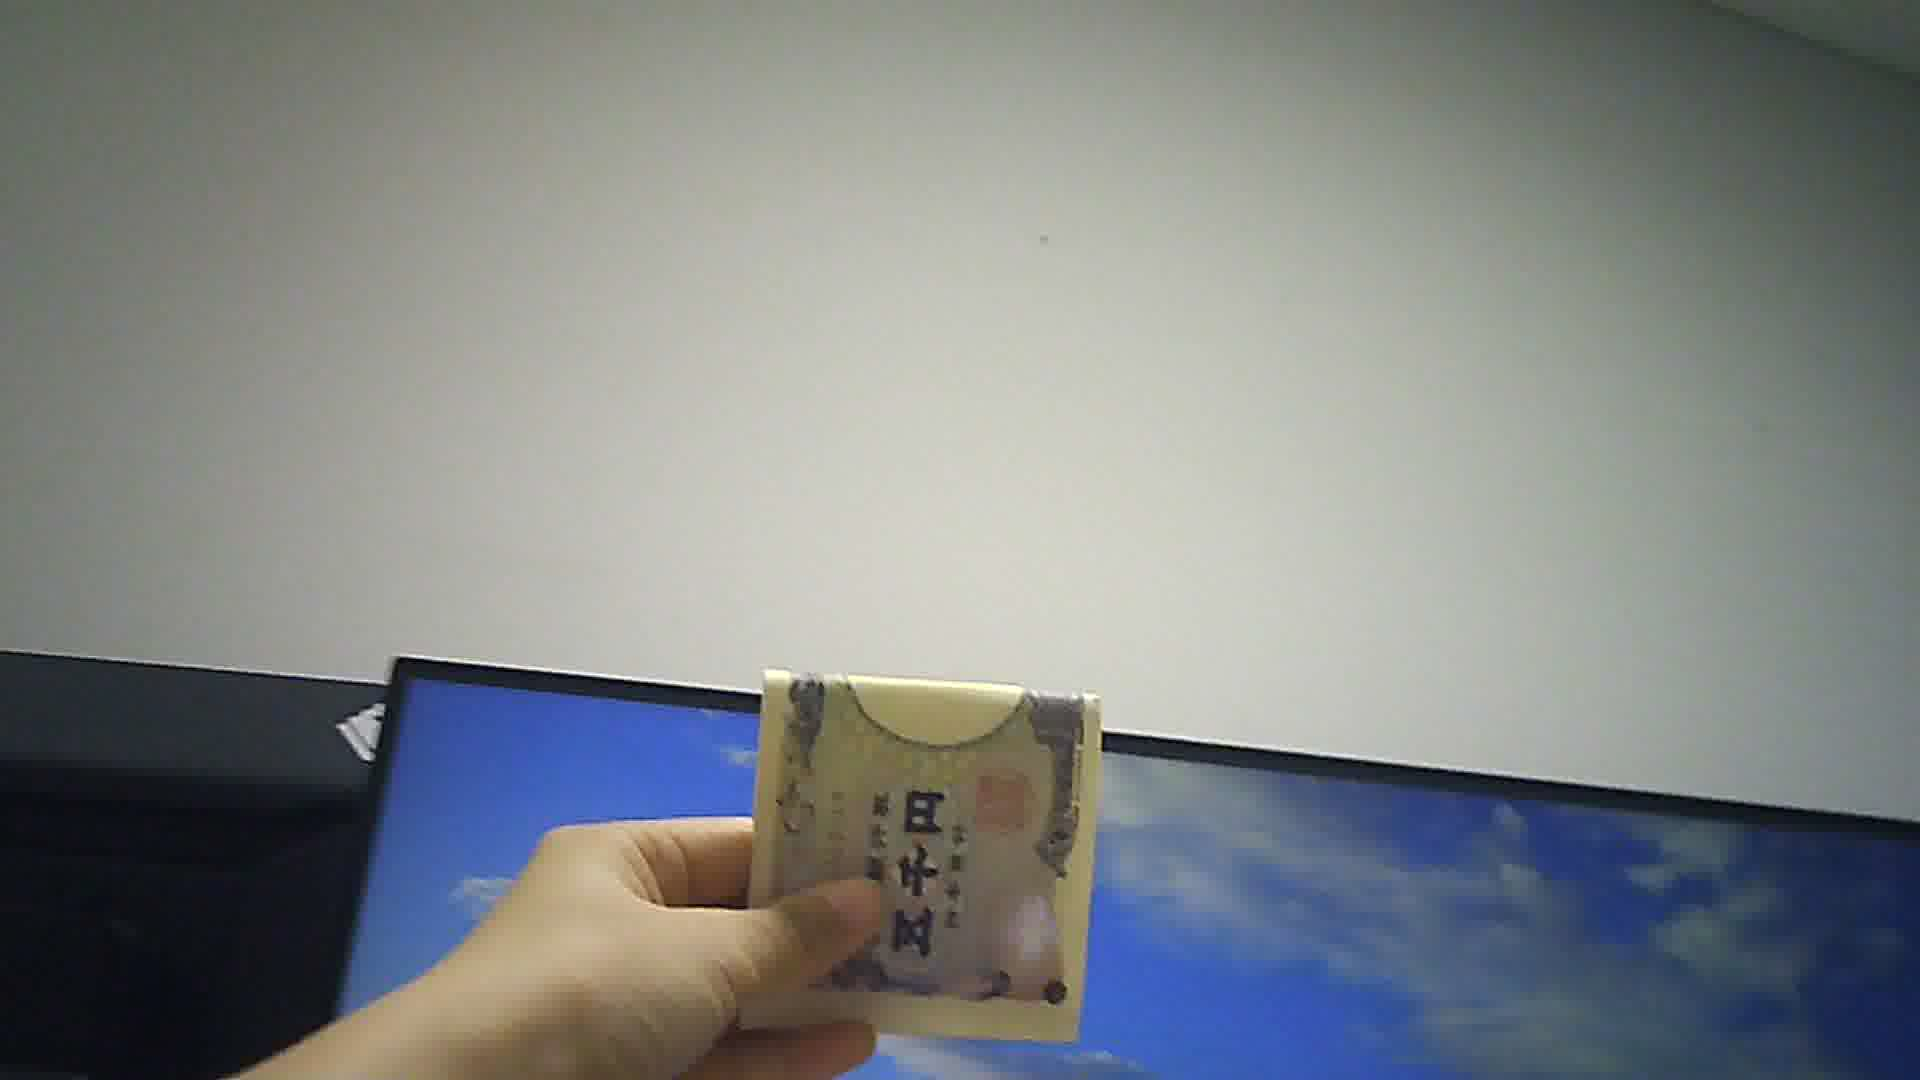5,000 Yen: (738, 649, 1097, 1040)
